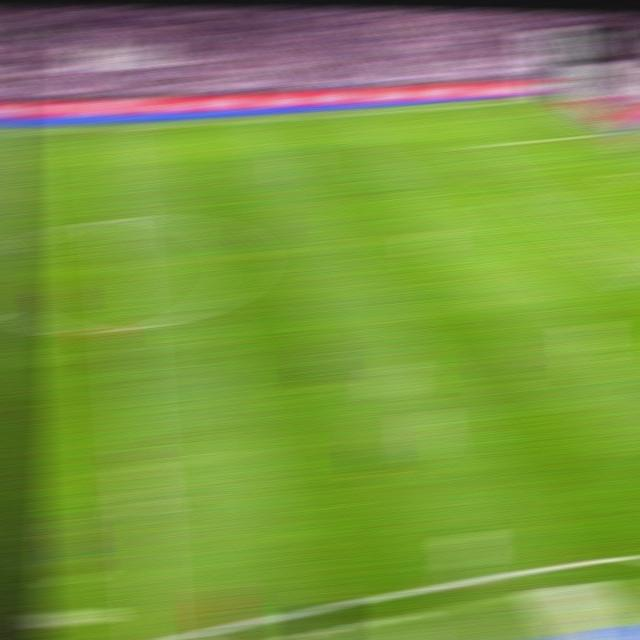bigarea_top_inner: (453, 140, 480, 152)
bigarea_top_outter: (595, 127, 624, 137)
bottom_arc_area_intersection: (591, 251, 621, 267)
corner: (532, 95, 560, 101)
halfcircle_bottom: (111, 315, 144, 339)
halfcircle_top: (102, 209, 133, 227)
midline_top_intersection: (95, 122, 124, 134)
smallarea_top_inner: (610, 170, 637, 177)
top_arc_area_intersection: (505, 183, 534, 196)
